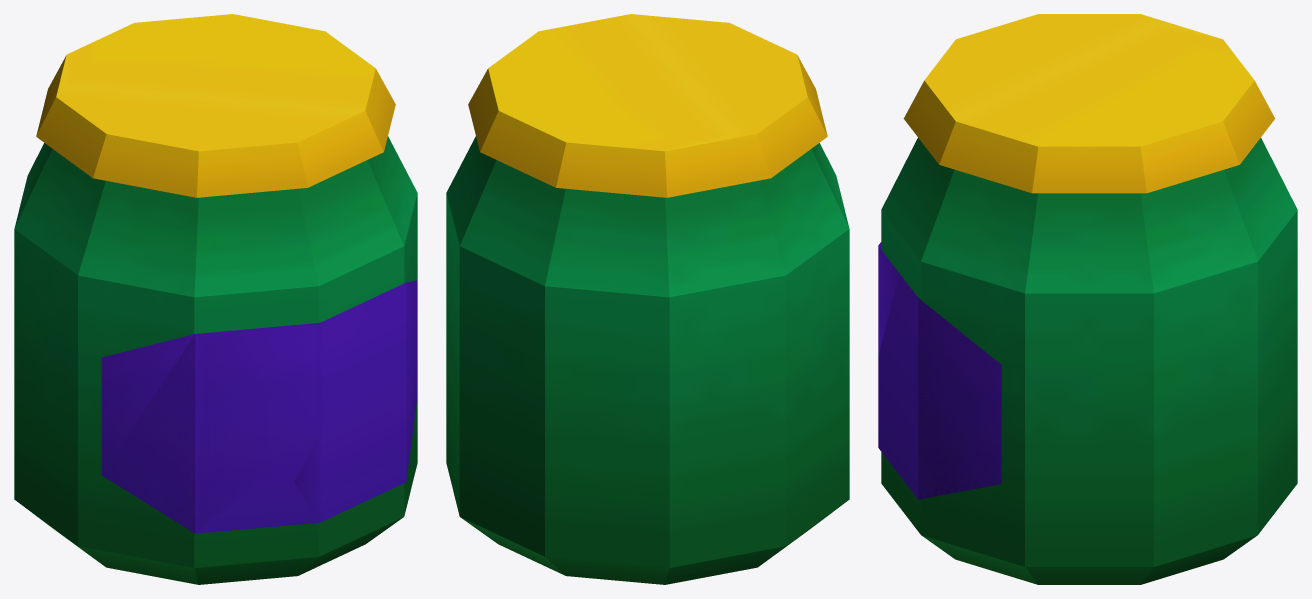
File: Jar_Breakable.fbx
3 renders of one model, left to right at view 1: azimuth 30°, elevation 25°; view 2: azimuth 150°, elevation 25°; view 3: azimuth 270°, elevation 25°, orthographic.
Visible parts, largest first — view 1: Jar_Breakable, Jar_Breakable3, Jar_Breakable1; view 2: Jar_Breakable1, Jar_Breakable, Jar_Breakable2; view 3: Jar_Breakable2, Jar_Breakable, Jar_Breakable3, Jar_Breakable1.
Boxes of the visible parts, left/top/right/bottom form: Jar_Breakable: left=14, top=14, right=390, bottom=584; Jar_Breakable3: left=215, top=86, right=417, bottom=583; Jar_Breakable1: left=14, top=168, right=88, bottom=554; Jar_Breakable1: left=449, top=119, right=812, bottom=584; Jar_Breakable: left=483, top=14, right=849, bottom=534; Jar_Breakable2: left=446, top=65, right=492, bottom=472; Jar_Breakable2: left=1002, top=145, right=1206, bottom=584; Jar_Breakable: left=878, top=14, right=1264, bottom=355; Jar_Breakable3: left=878, top=169, right=1044, bottom=577; Jar_Breakable1: left=1147, top=100, right=1297, bottom=582.
Bounding box in the file's own units: 20.75 × 25.31 × 21.97.
1 material, 1 textured.
